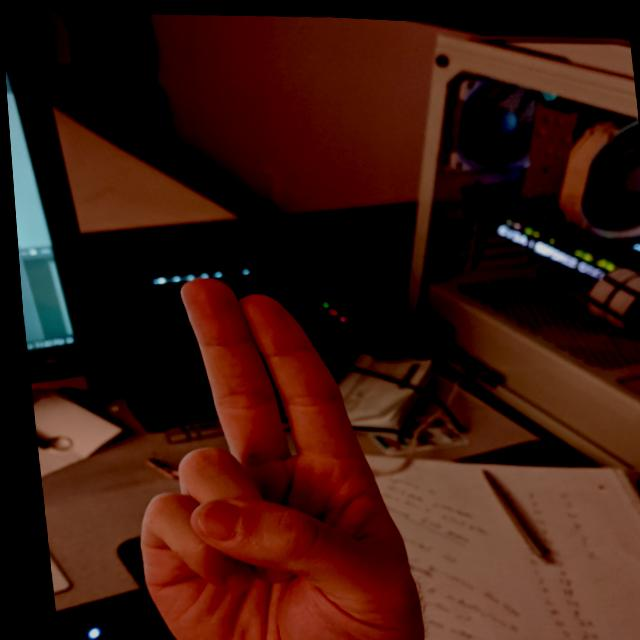U: (95, 260, 427, 639)
